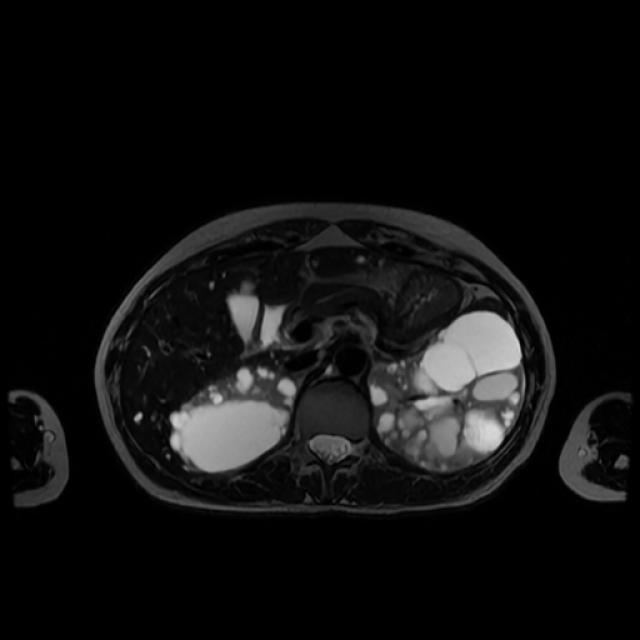sag: (171, 365, 298, 471)
sol: (371, 311, 524, 474)
